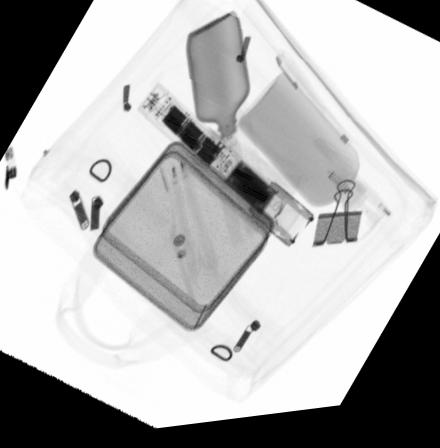Baton: (136, 84, 317, 258)
